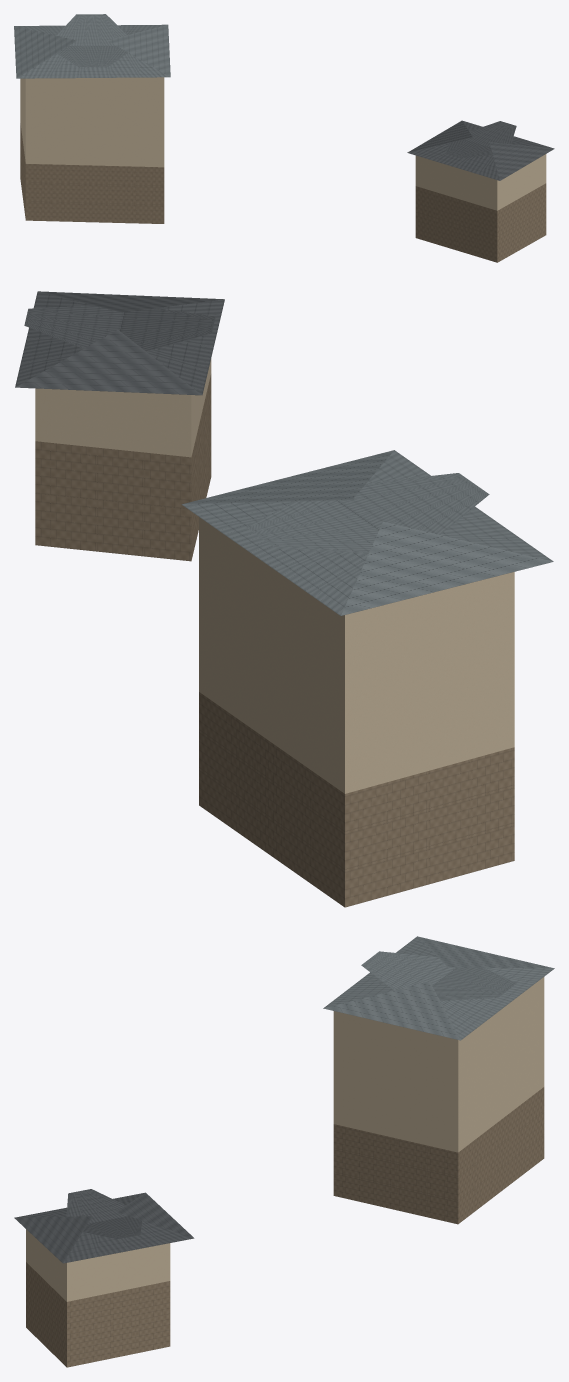
The model's file is bld_c24_29_401.gltf.
3 renders of one model, top to bottom at view 1: azimuth 30°, elevation 25°; view 2: azimuth 150°, elevation 25°; view 3: azimuth 270°, elevation 25°, orthographic. The views are drawn at different scales.
Parts seen in each view (by area): view 1: bld_c24_29_401; view 2: bld_c24_29_401; view 3: bld_c24_29_401.
Part boxes in pixels (box(x1,y1,x2,y2)): bld_c24_29_401: box(14, 14, 554, 262); bld_c24_29_401: box(15, 291, 553, 907); bld_c24_29_401: box(14, 936, 554, 1367).
Size of the model in its own units: 37.42 by 14.5 by 34.83.
Materials: 4 (4 with a texture image).
